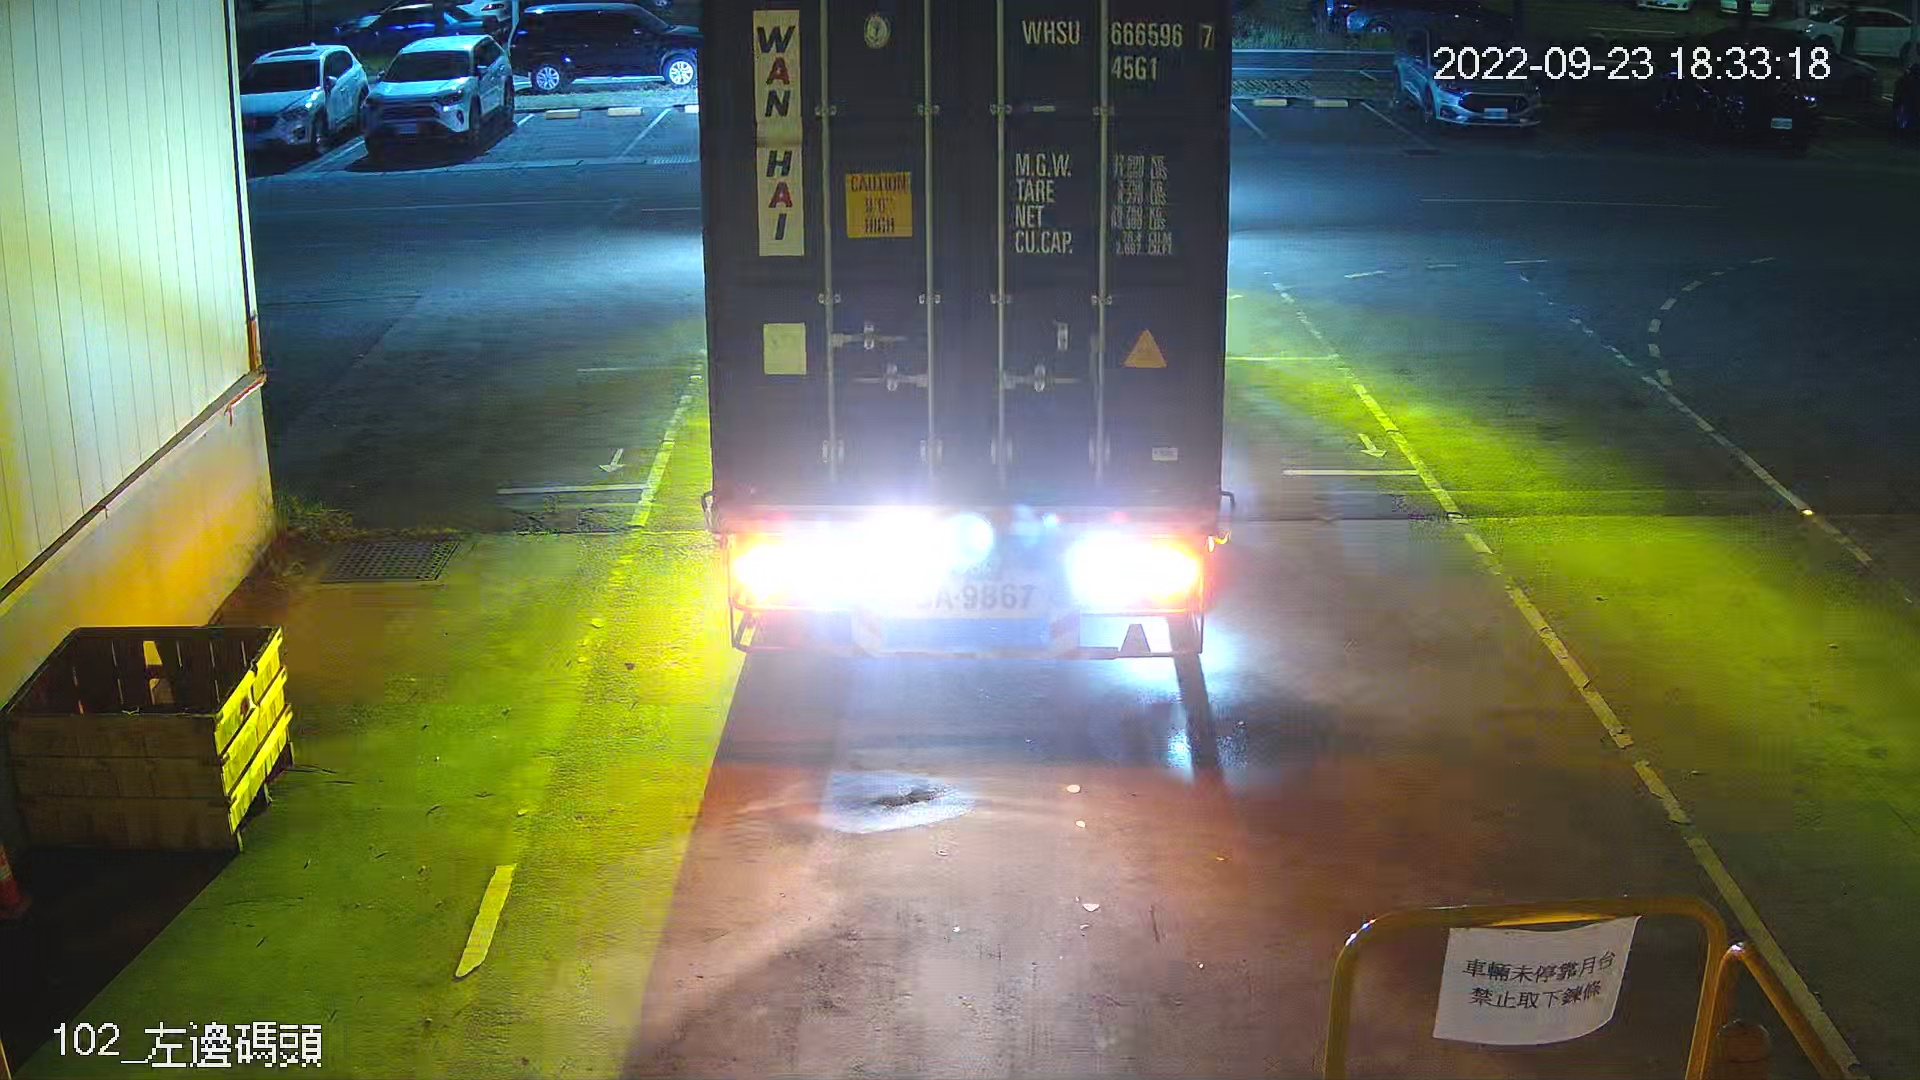container: (1013, 8, 1220, 91)
